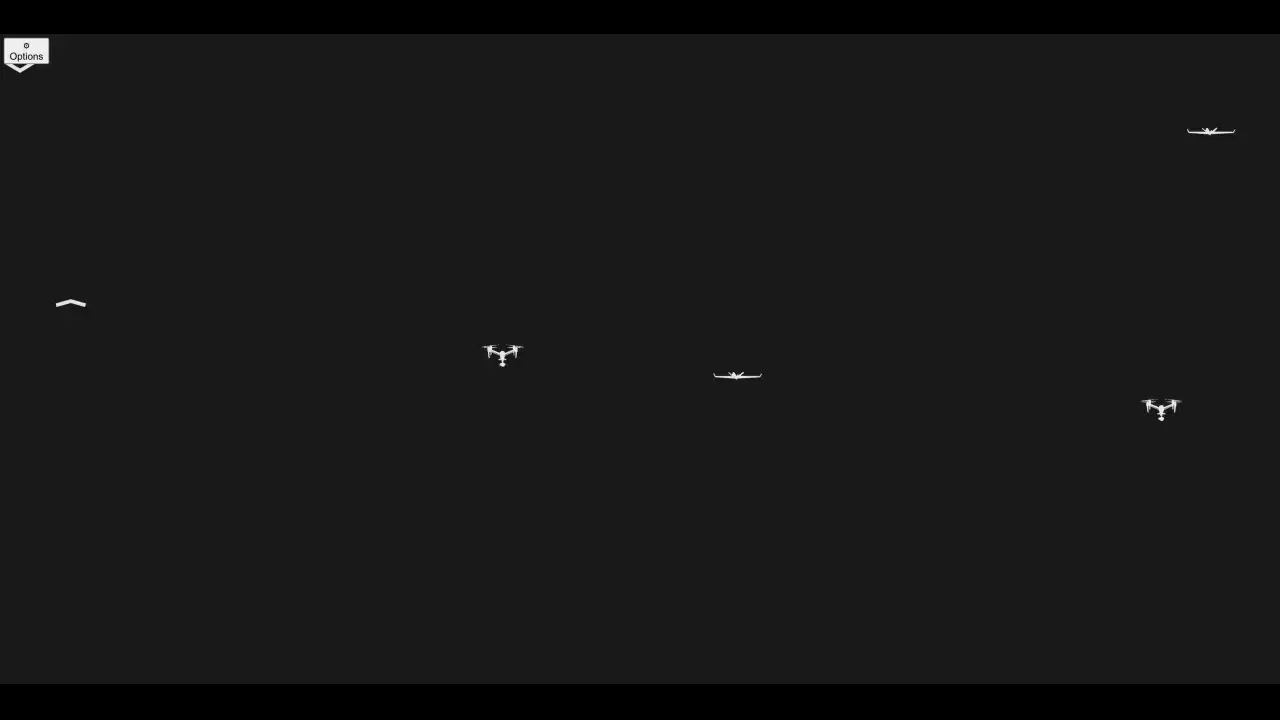Bird: (43, 282, 95, 323), (2, 55, 47, 91)
Drone: (1182, 107, 1245, 153), (704, 357, 770, 400)
Quadcopter: (1130, 388, 1191, 433), (471, 333, 534, 376)
